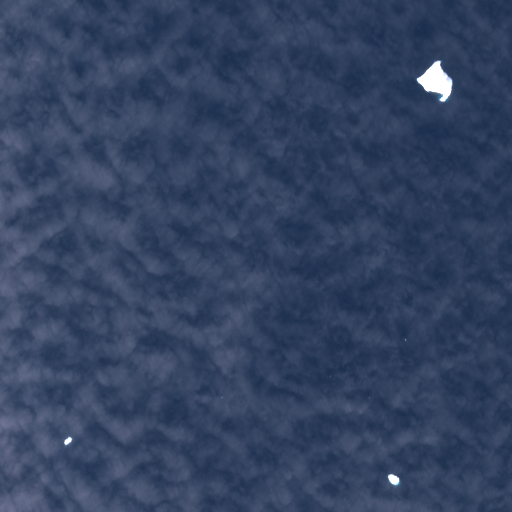Iceberg: (416, 60, 452, 101), (387, 473, 399, 484), (63, 436, 72, 445), (404, 338, 406, 341)
